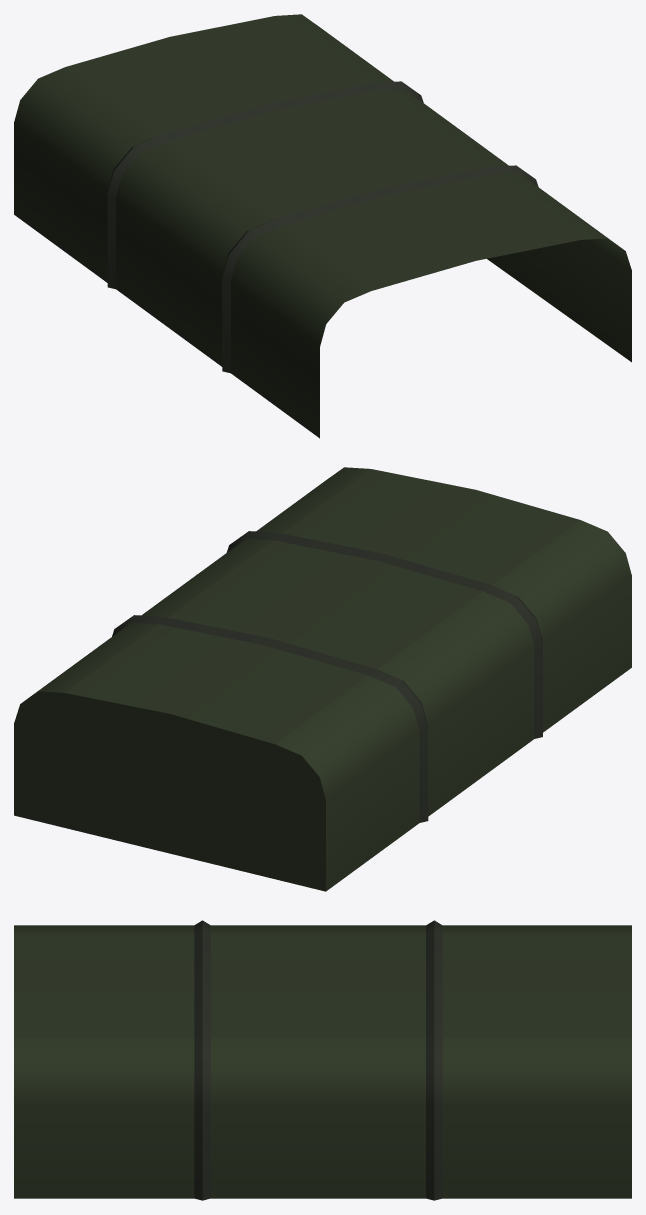
File: military_veh1_back.fbx
The picture shows the model from 3 angles, top to bottom: view 1: azimuth 30°, elevation 25°; view 2: azimuth 150°, elevation 25°; view 3: azimuth 270°, elevation 25°; orthographic projection.
Visible parts, largest first — view 1: military_veh1_back; view 2: military_veh1_back; view 3: military_veh1_back.
Part boxes in pixels (x1,y1,x2,y2): military_veh1_back: [14, 14, 631, 438]; military_veh1_back: [14, 467, 631, 891]; military_veh1_back: [14, 920, 631, 1200].
Size of the model in its own units: 231 by 99.29 by 382.
